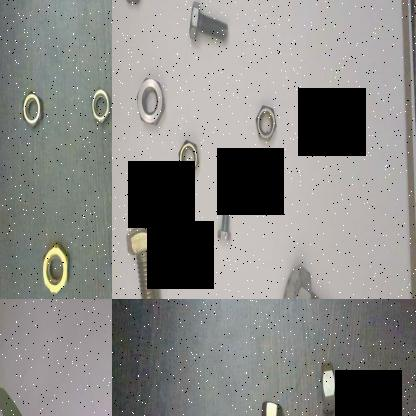Bolts: (122, 209, 167, 299), (272, 260, 347, 299), (185, 0, 231, 49), (215, 162, 238, 246)
NUTS: (39, 231, 74, 299), (132, 72, 168, 130), (254, 98, 281, 146), (175, 136, 205, 178), (319, 359, 341, 416), (21, 85, 45, 133), (90, 79, 112, 130)
